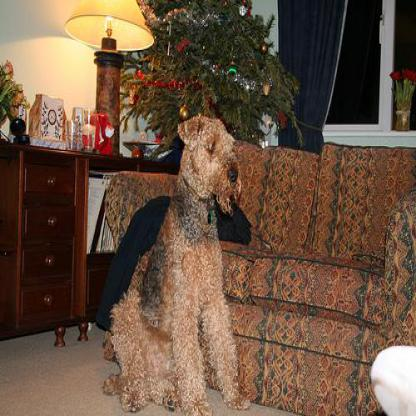dog: (110, 105, 251, 413)
